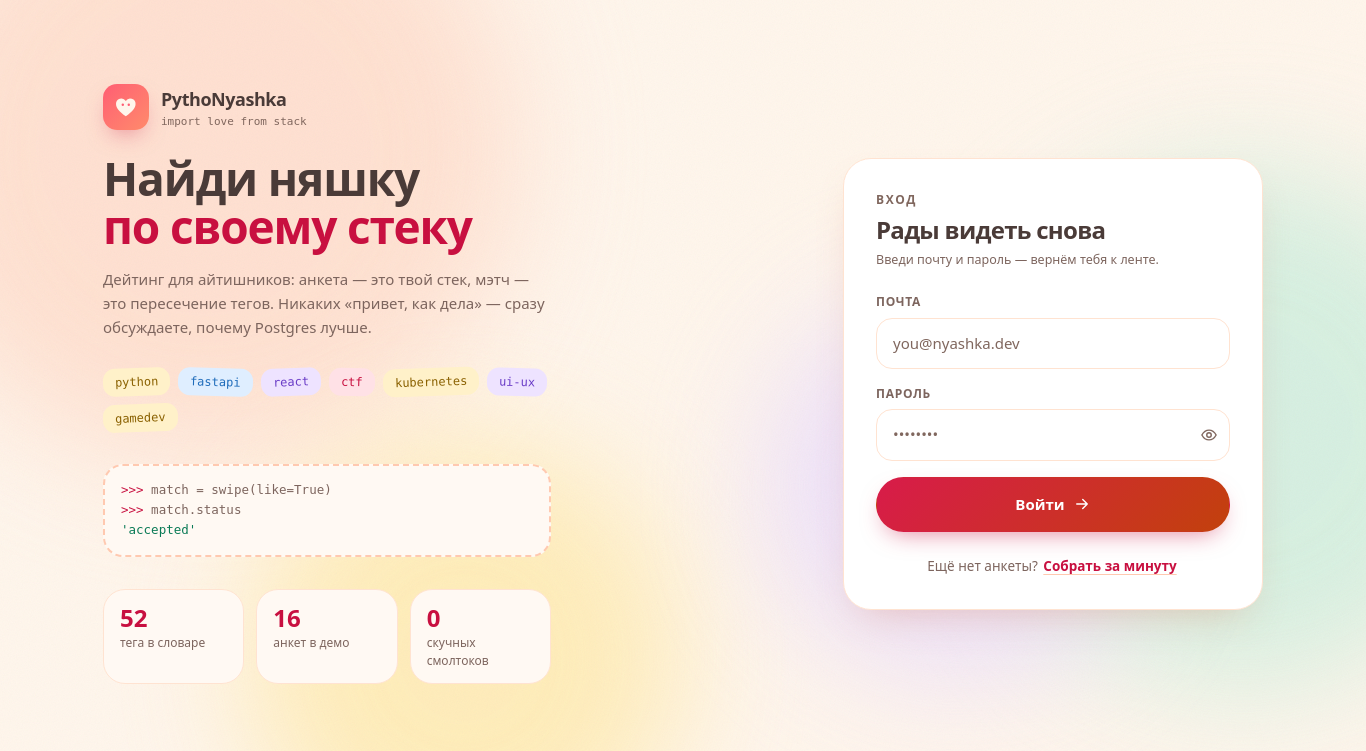
submits credentials, saves the session and opens the feed after a successful login
Type "ada@example.com" into the field labelled "Почта" at (1053, 343), box x1=876 y1=318 x2=1230 y2=369
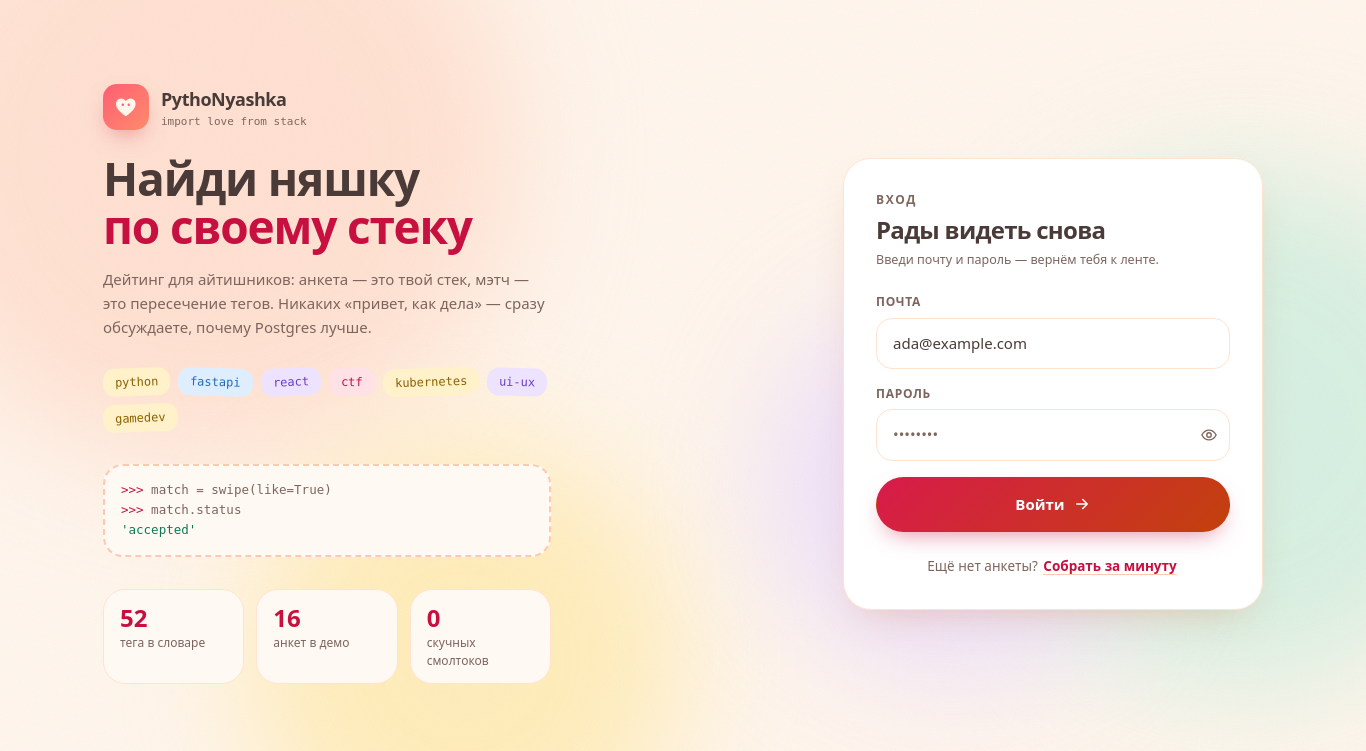
Type "test-password" into the password field labelled "Пароль" at (1053, 435), box x1=876 y1=410 x2=1230 y2=461
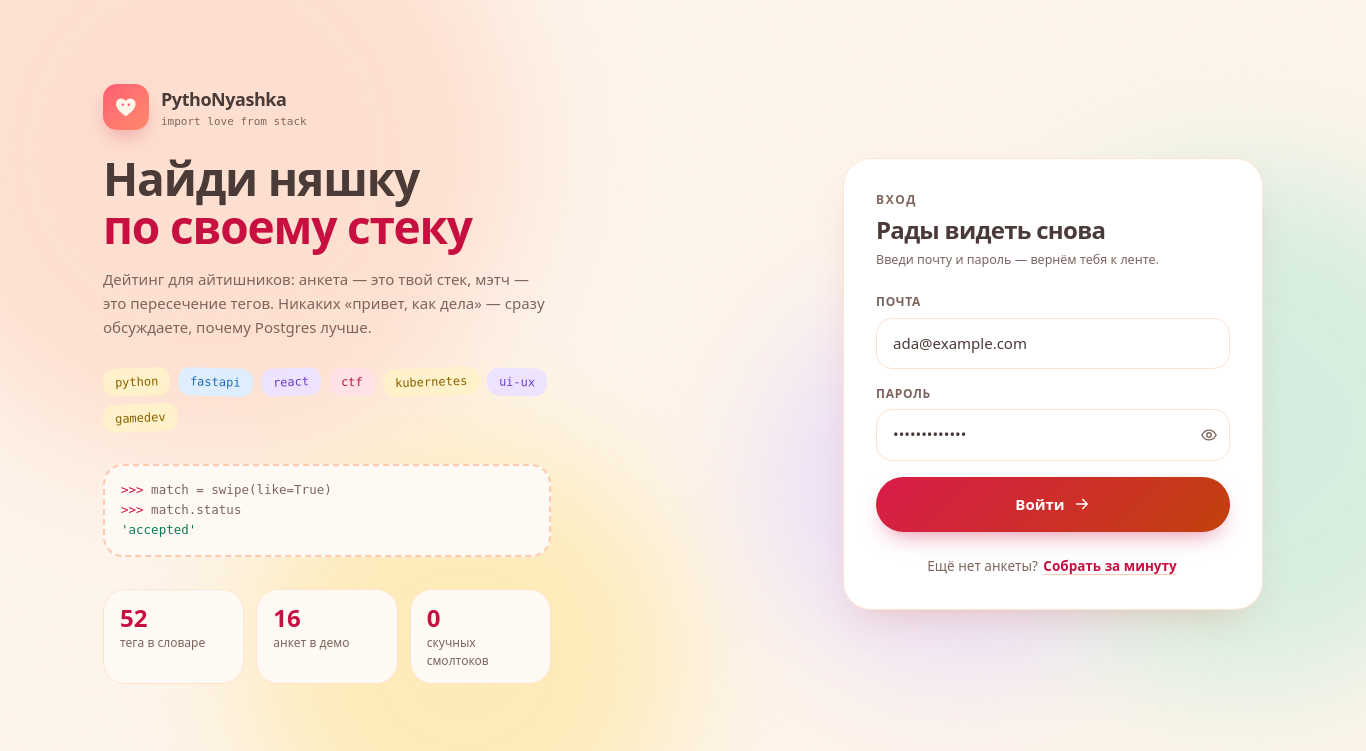
Click the button "Войти" at (1053, 504), box x1=876 y1=477 x2=1230 y2=532
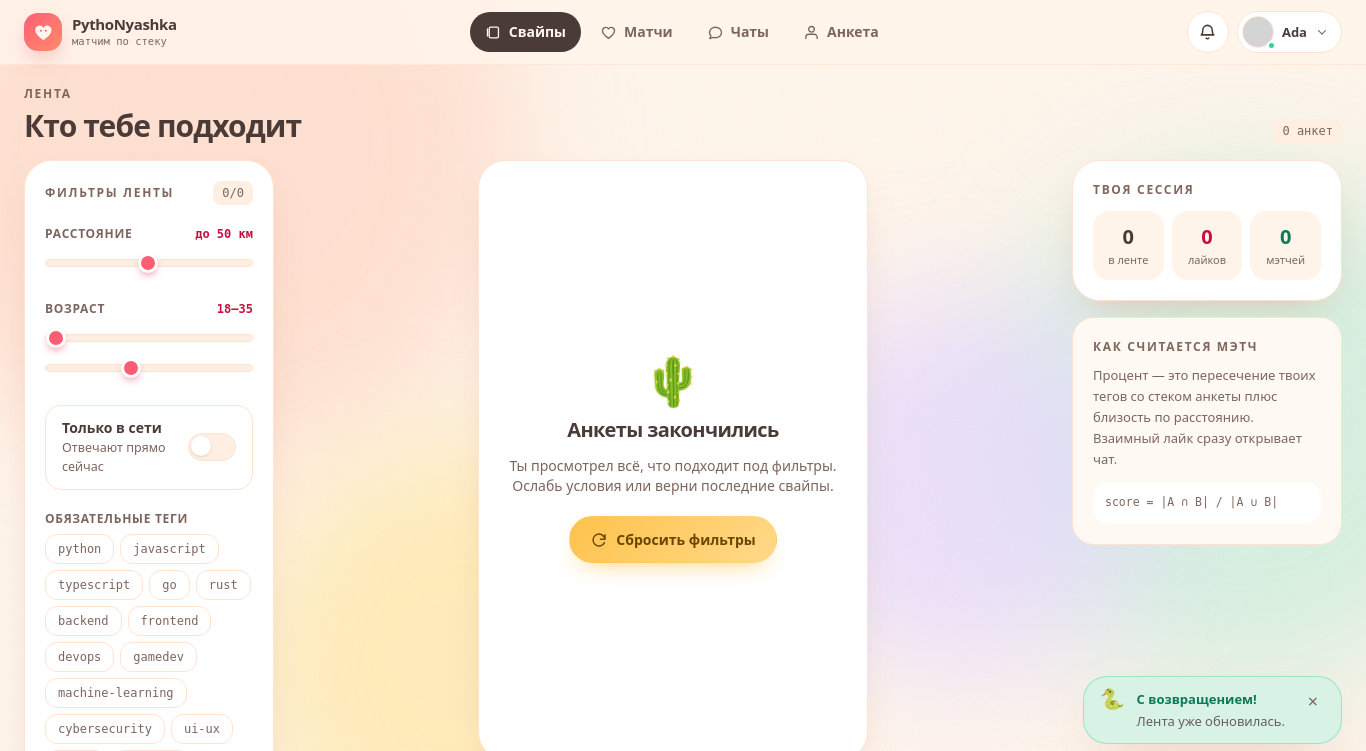
Now the heading "Анкеты закончились" is shown, box x1=567 y1=416 x2=779 y2=444
